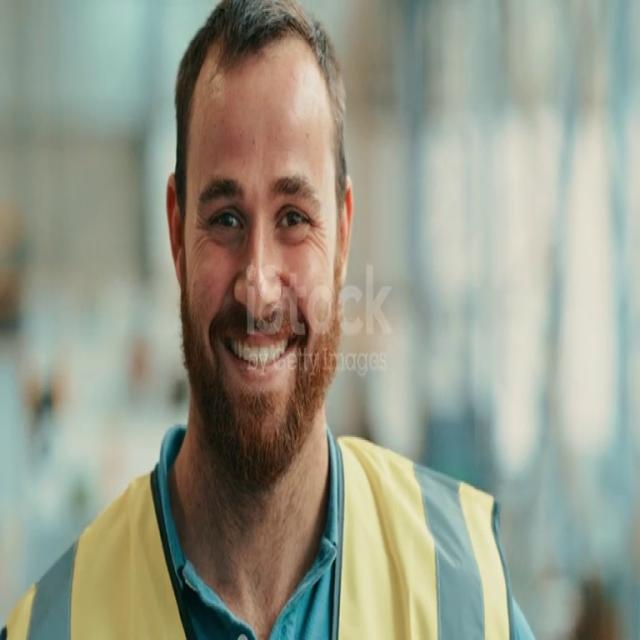sem_capacete: (156, 0, 363, 521)
